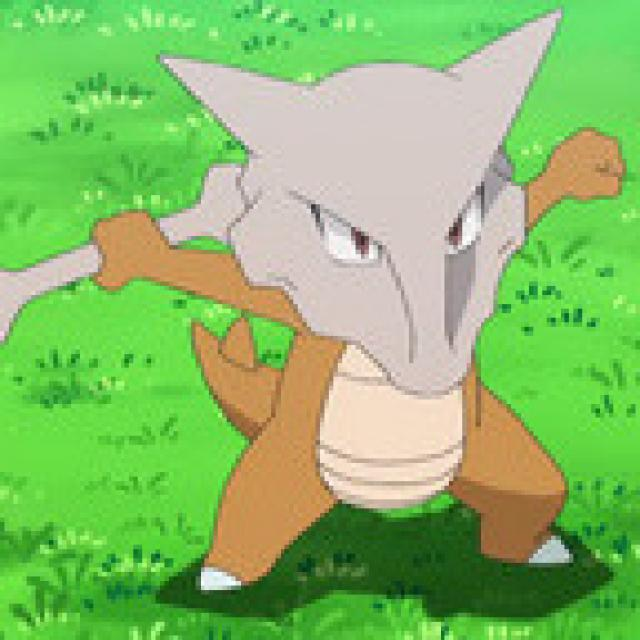Marowak: (153, 44, 589, 589)
